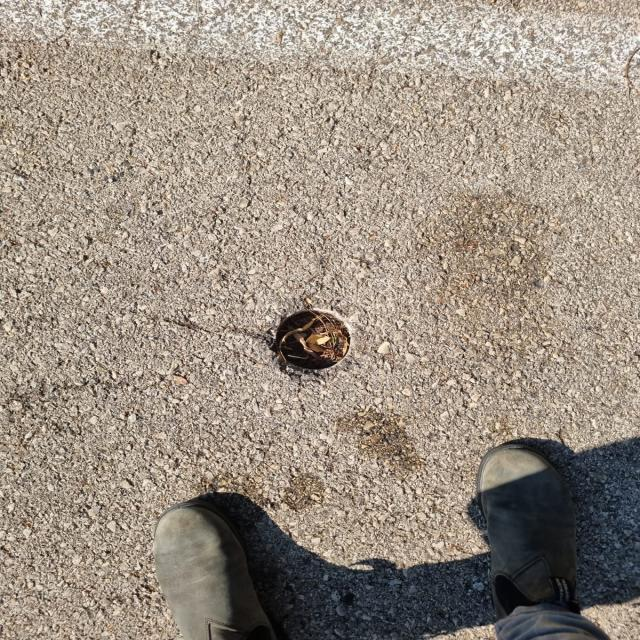medium_pothole: (257, 306, 358, 370)
